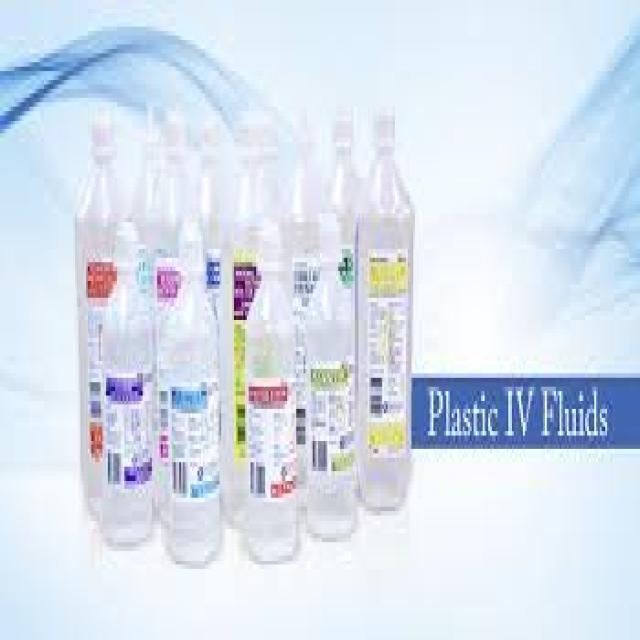B3: (357, 107, 421, 532), (160, 236, 230, 580), (233, 232, 303, 570), (93, 219, 159, 558), (302, 228, 357, 536)
